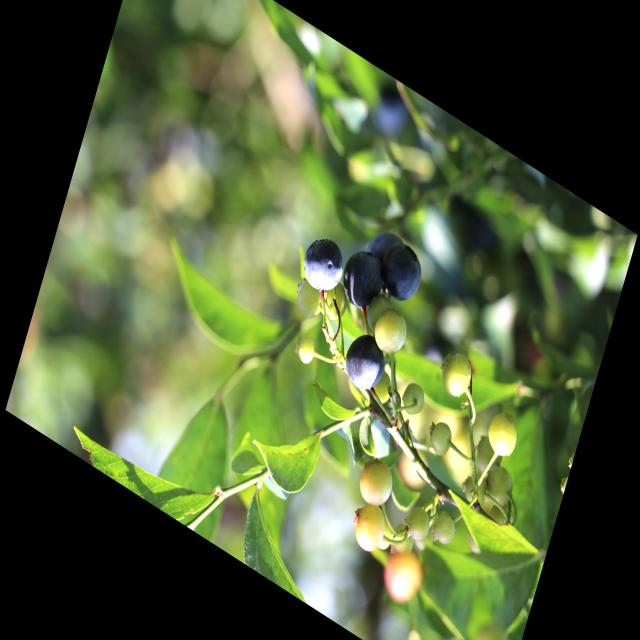blueberry: (295, 224, 352, 303), (338, 242, 389, 321), (374, 235, 428, 309), (340, 326, 390, 400)
blueberry-halfripe: (380, 540, 426, 611), (348, 496, 391, 559), (355, 453, 396, 510)
blueberry-unripe: (370, 302, 412, 365), (436, 346, 476, 404), (483, 406, 521, 464), (424, 503, 459, 553), (482, 459, 516, 510), (320, 277, 353, 328), (291, 273, 327, 319), (426, 414, 456, 461), (473, 434, 503, 479), (402, 503, 432, 545), (294, 328, 320, 371), (402, 381, 426, 421)
